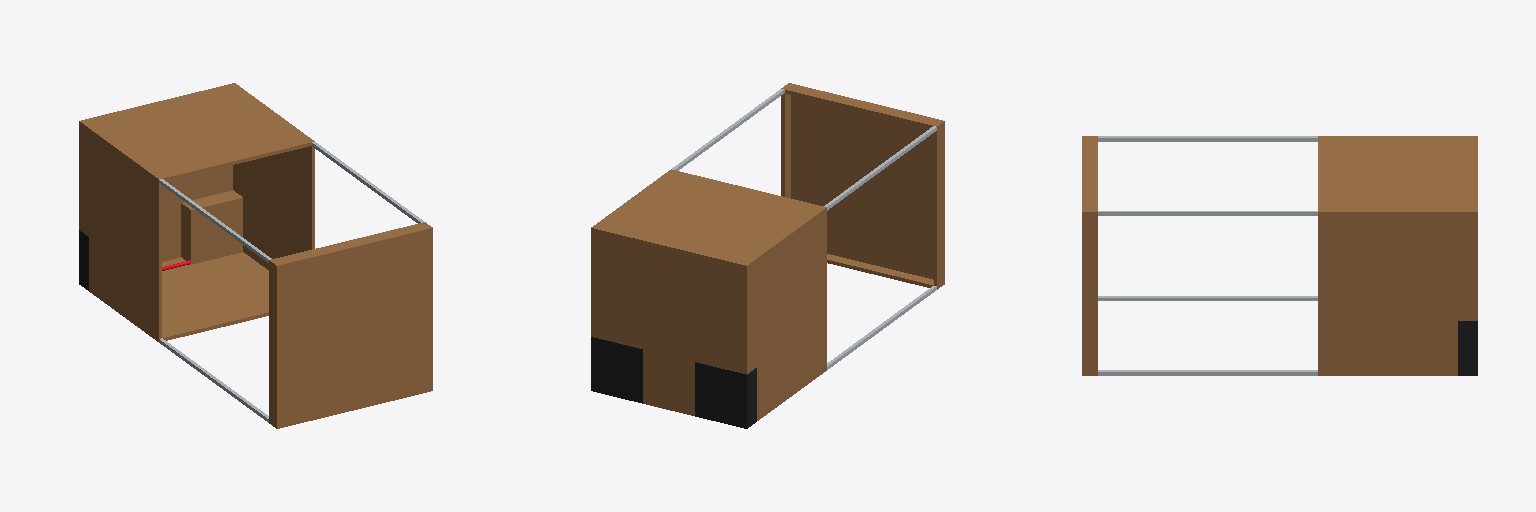
File: tinker.obj
The picture shows the model from 3 angles: view 1: azimuth 30°, elevation 25°; view 2: azimuth 150°, elevation 25°; view 3: azimuth 270°, elevation 25°; orthographic projection.
Visible parts, largest first — view 1: obj_0; view 2: obj_0; view 3: obj_0.
Boxes of the visible parts, <box> form: obj_0: <box>79,83,432,428</box>; obj_0: <box>591,83,944,428</box>; obj_0: <box>1082,136,1477,375</box>.
Bounding box in the file's own units: 45 × 45 × 99.